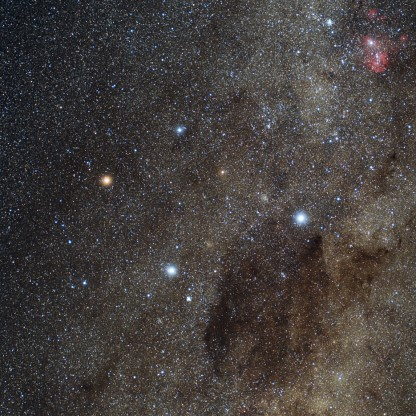Southern Cross: (287, 205, 314, 235), (95, 170, 116, 201), (159, 258, 183, 283), (168, 118, 188, 139)
